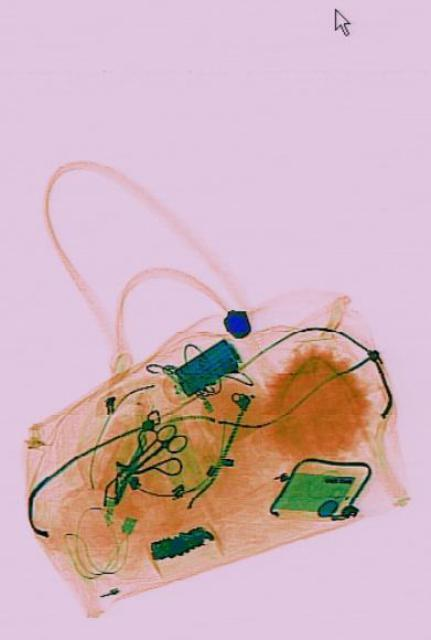Scissors: (111, 412, 188, 496)
